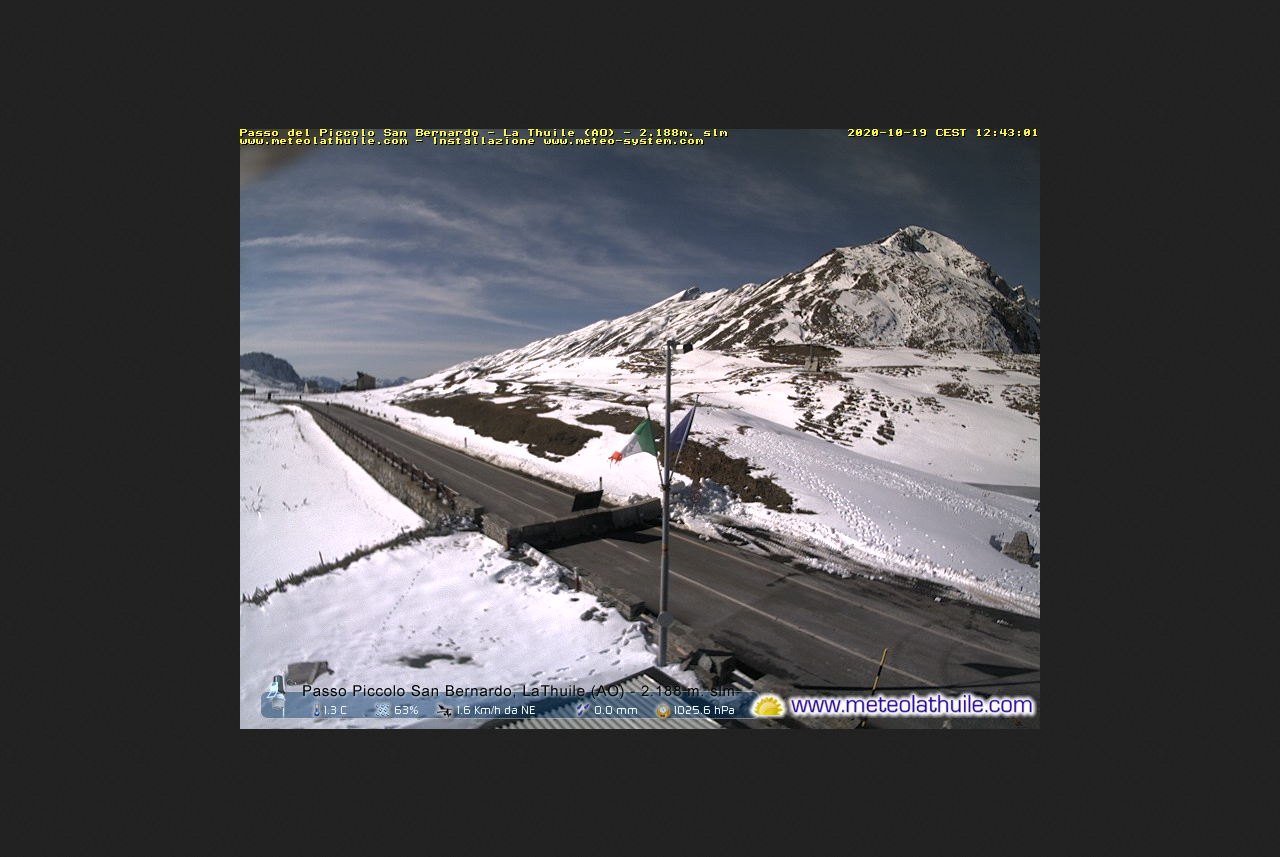maybe: (605, 412, 659, 468), (663, 394, 690, 463)
